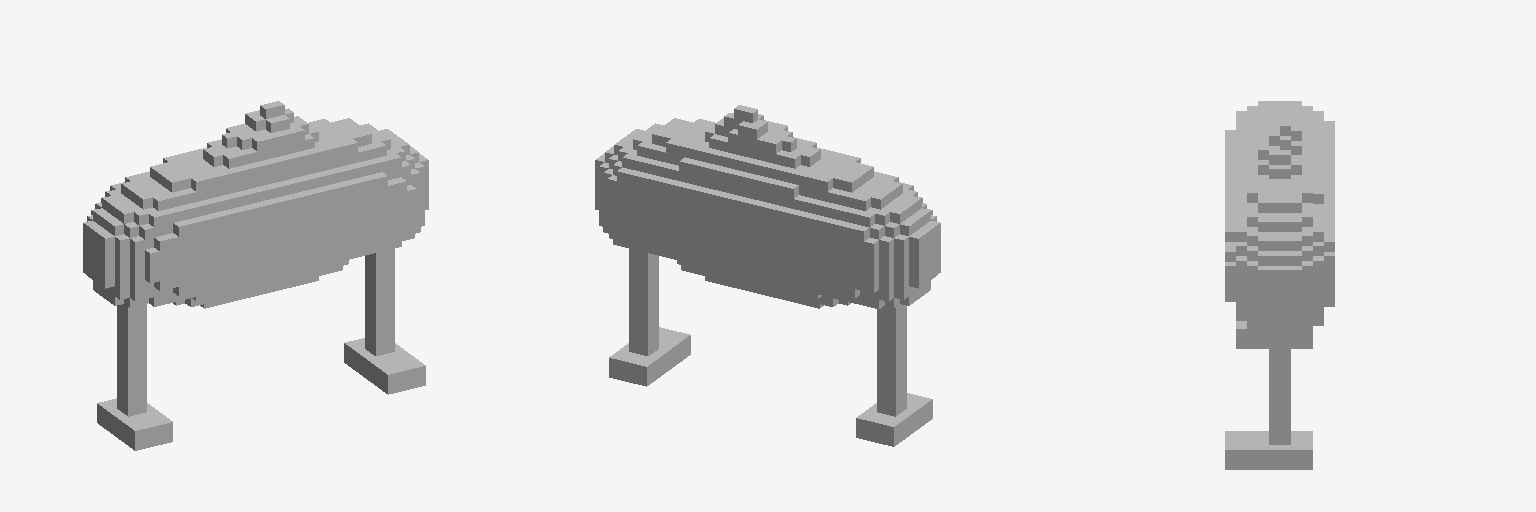
File: iron.obj
3 views of the same model, side by side, from view 1: azimuth 30°, elevation 25°; view 2: azimuth 150°, elevation 25°; view 3: azimuth 270°, elevation 25° (orthographic).
Parts seen in each view (by area): view 1: object 1; view 2: object 1; view 3: object 1.
Boxes of the visible parts, <box> form: object 1: <box>83,101,428,450</box>; object 1: <box>595,105,940,446</box>; object 1: <box>1225,101,1334,469</box>.
Bounding box in the file's own units: 3.4 × 2.9 × 1.